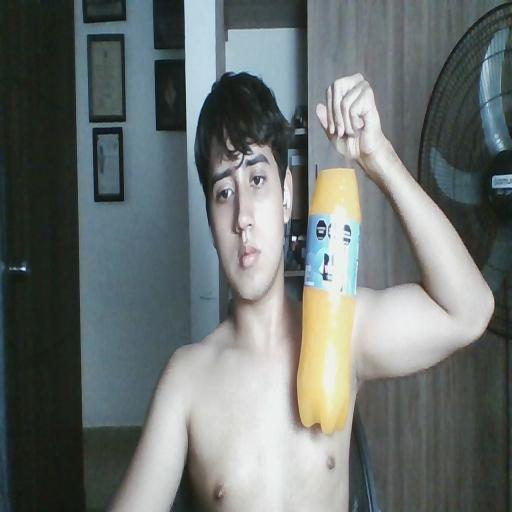Jugo del valle: (298, 168, 361, 433)
